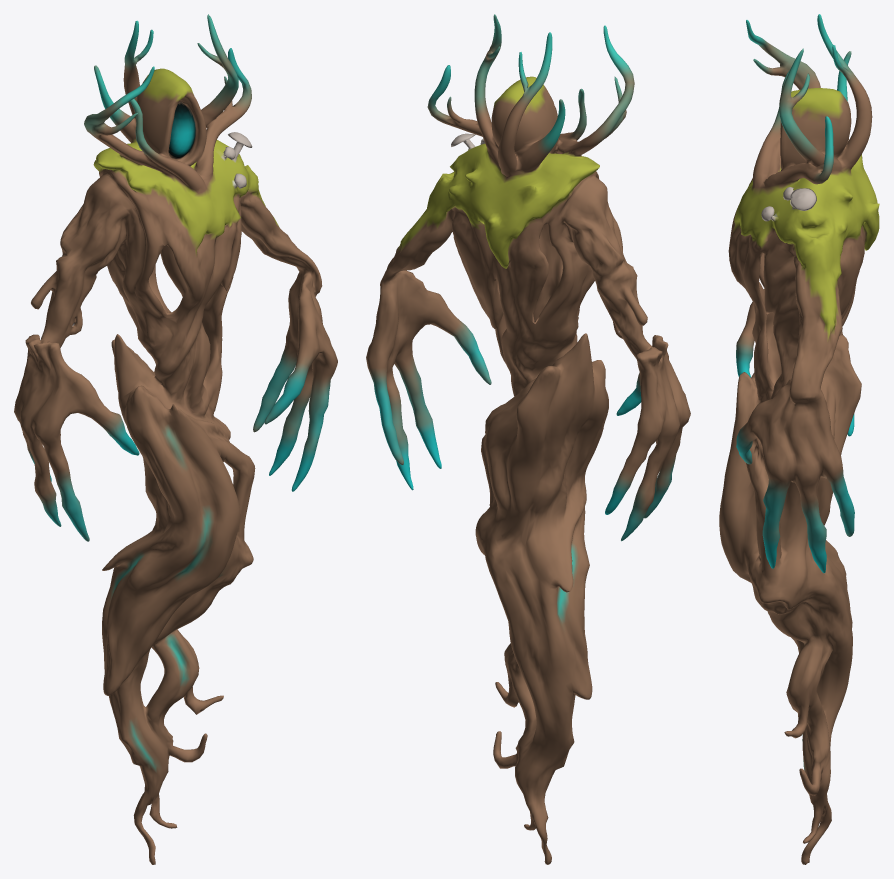
The model's file is Wraith_TEMP.fbx.
3 views of the same model, side by side, from view 1: azimuth 30°, elevation 25°; view 2: azimuth 150°, elevation 25°; view 3: azimuth 270°, elevation 25° (orthographic).
Parts seen in each view (by area): view 1: Ent_wizard; view 2: Ent_wizard; view 3: Ent_wizard.
Boxes of the visible parts, x1=… form: Ent_wizard: x1=14, y1=14, x2=337, y2=864; Ent_wizard: x1=366, y1=14, x2=690, y2=864; Ent_wizard: x1=719, y1=14, x2=879, y2=864.
Bounding box in the file's own units: 91.23 × 240 × 41.27.
